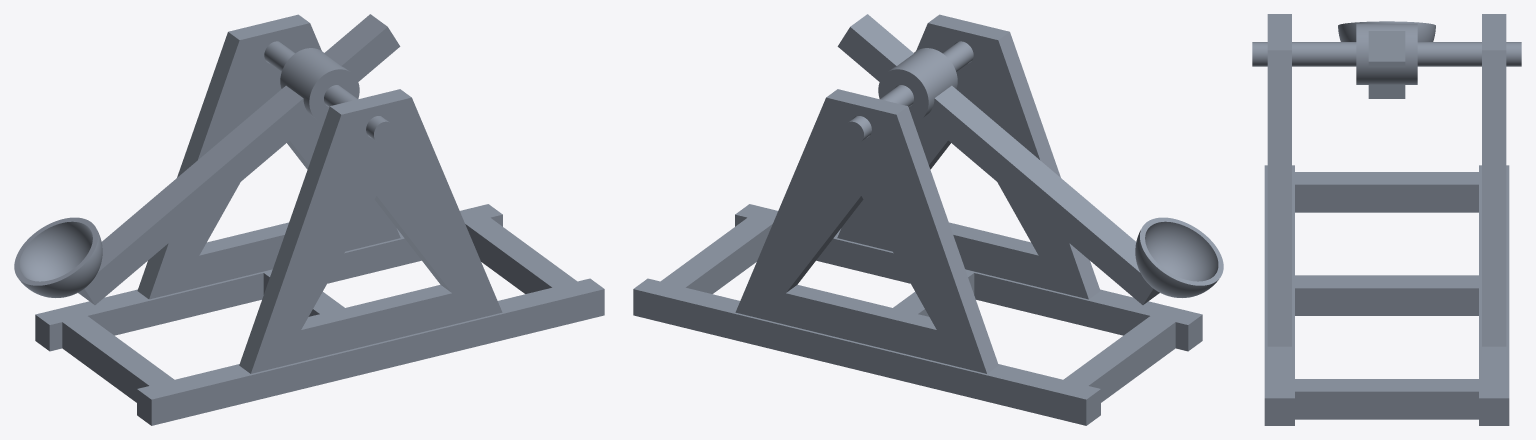
Rendered from step-4.glb.
3 renders of one model, left to right at view 1: azimuth 30°, elevation 25°; view 2: azimuth 150°, elevation 25°; view 3: azimuth 270°, elevation 25°, orthographic. The views are drawn at different scales.
Parts seen in each view (by area): view 1: face_34d923c5cc0273aa6e75, face_5b95a24020a418d23f3b, face_d85b668a0006ba6affbe, face_e8b85afa708fb4fee940, face_d169b7d3875214d54722, face_13b3d2e129ec6e483a8b, face_b6fab3d4a9dbbcaf1519, face_fb8887bba764df91bad6, face_e94c620bed071c971e52, face_3c0834110e3bc344f8e5, face_3e9cd110ecaf1841d03a, face_246edf2abe85ad273bca (+12 smaller); view 2: face_ef5056151f815182bda0, face_fe4e841fd695f834da92, face_80b5e0dae24f9436188f, face_e8b85afa708fb4fee940, face_4eec5b49c1f6f86e5da5, face_13b3d2e129ec6e483a8b, face_bc4d6481ef769fb29cba, face_3c0834110e3bc344f8e5, face_e94c620bed071c971e52, face_fb8887bba764df91bad6, face_bf1306e5727f1e8a53bb, face_246edf2abe85ad273bca (+12 smaller); view 3: face_e8b85afa708fb4fee940, face_7a4d995620524e4ab61b, face_5c6a311c84a0fef03e59, face_eaa270c082d40c3f3501, face_14de0b3180eca4220d2a, face_f7f6948fa4251880c2cf, face_be33e1bf23d48bf20ae8, face_24cc83ecb742e0211476, face_1927544f3049aa16dba8, face_1005296317179e802ba1, face_3ebdc74f41b9cd34a261, face_27a02da4b4b9ff2baa63 (+3 smaller).
Part boxes in pixels (x1=…): face_34d923c5cc0273aa6e75: x1=251, y1=97, x2=502, y2=373; face_5b95a24020a418d23f3b: x1=149, y1=23, x2=400, y2=299; face_d85b668a0006ba6affbe: x1=151, y1=289, x2=604, y2=425; face_e8b85afa708fb4fee940: x1=35, y1=204, x2=603, y2=399; face_d169b7d3875214d54722: x1=84, y1=98, x2=315, y2=304; face_13b3d2e129ec6e483a8b: x1=98, y1=85, x2=303, y2=272; face_b6fab3d4a9dbbcaf1519: x1=88, y1=273, x2=263, y2=335; face_fb8887bba764df91bad6: x1=239, y1=106, x2=340, y2=373; face_e94c620bed071c971e52: x1=19, y1=221, x2=92, y2=281; face_3c0834110e3bc344f8e5: x1=137, y1=32, x2=239, y2=298; face_3e9cd110ecaf1841d03a: x1=327, y1=238, x2=421, y2=283; face_246edf2abe85ad273bca: x1=62, y1=322, x2=148, y2=402; face_ef5056151f815182bda0: x1=735, y1=97, x2=986, y2=373; face_fe4e841fd695f834da92: x1=837, y1=23, x2=1088, y2=299; face_80b5e0dae24f9436188f: x1=633, y1=289, x2=1086, y2=425; face_e8b85afa708fb4fee940: x1=634, y1=204, x2=1202, y2=399; face_4eec5b49c1f6f86e5da5: x1=922, y1=98, x2=1153, y2=304; face_13b3d2e129ec6e483a8b: x1=934, y1=85, x2=1139, y2=272; face_bc4d6481ef769fb29cba: x1=974, y1=273, x2=1149, y2=335; face_3c0834110e3bc344f8e5: x1=897, y1=106, x2=998, y2=373; face_e94c620bed071c971e52: x1=1145, y1=221, x2=1218, y2=281; face_fb8887bba764df91bad6: x1=998, y1=32, x2=1100, y2=298; face_bf1306e5727f1e8a53bb: x1=816, y1=238, x2=910, y2=283; face_246edf2abe85ad273bca: x1=1089, y1=322, x2=1175, y2=402; face_e8b85afa708fb4fee940: x1=1264, y1=165, x2=1509, y2=398; face_7a4d995620524e4ab61b: x1=1482, y1=50, x2=1506, y2=346; face_5c6a311c84a0fef03e59: x1=1267, y1=50, x2=1291, y2=346; face_eaa270c082d40c3f3501: x1=1295, y1=391, x2=1478, y2=419; face_14de0b3180eca4220d2a: x1=1295, y1=184, x2=1478, y2=212; face_f7f6948fa4251880c2cf: x1=1295, y1=288, x2=1478, y2=315; face_be33e1bf23d48bf20ae8: x1=1252, y1=42, x2=1521, y2=66; face_24cc83ecb742e0211476: x1=1356, y1=23, x2=1417, y2=84; face_1927544f3049aa16dba8: x1=1368, y1=31, x2=1405, y2=61; face_1005296317179e802ba1: x1=1482, y1=14, x2=1506, y2=50; face_3ebdc74f41b9cd34a261: x1=1267, y1=14, x2=1291, y2=50; face_27a02da4b4b9ff2baa63: x1=1264, y1=398, x2=1294, y2=425.
Bounding box in the file's own units: 0.2086 × 0.1113 × 0.088.
